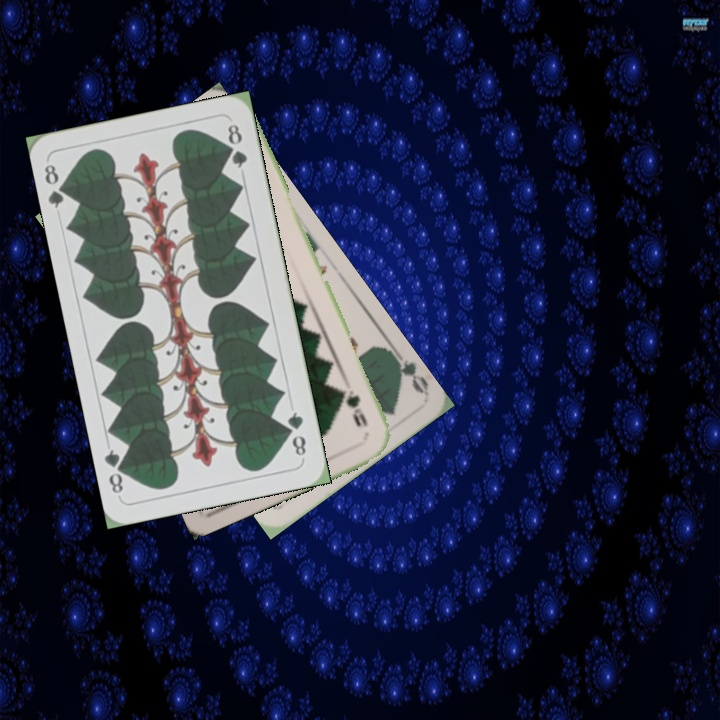G8: (40, 160, 73, 211), (283, 407, 309, 459)
G9: (337, 384, 370, 430)
GO: (386, 344, 431, 397)
